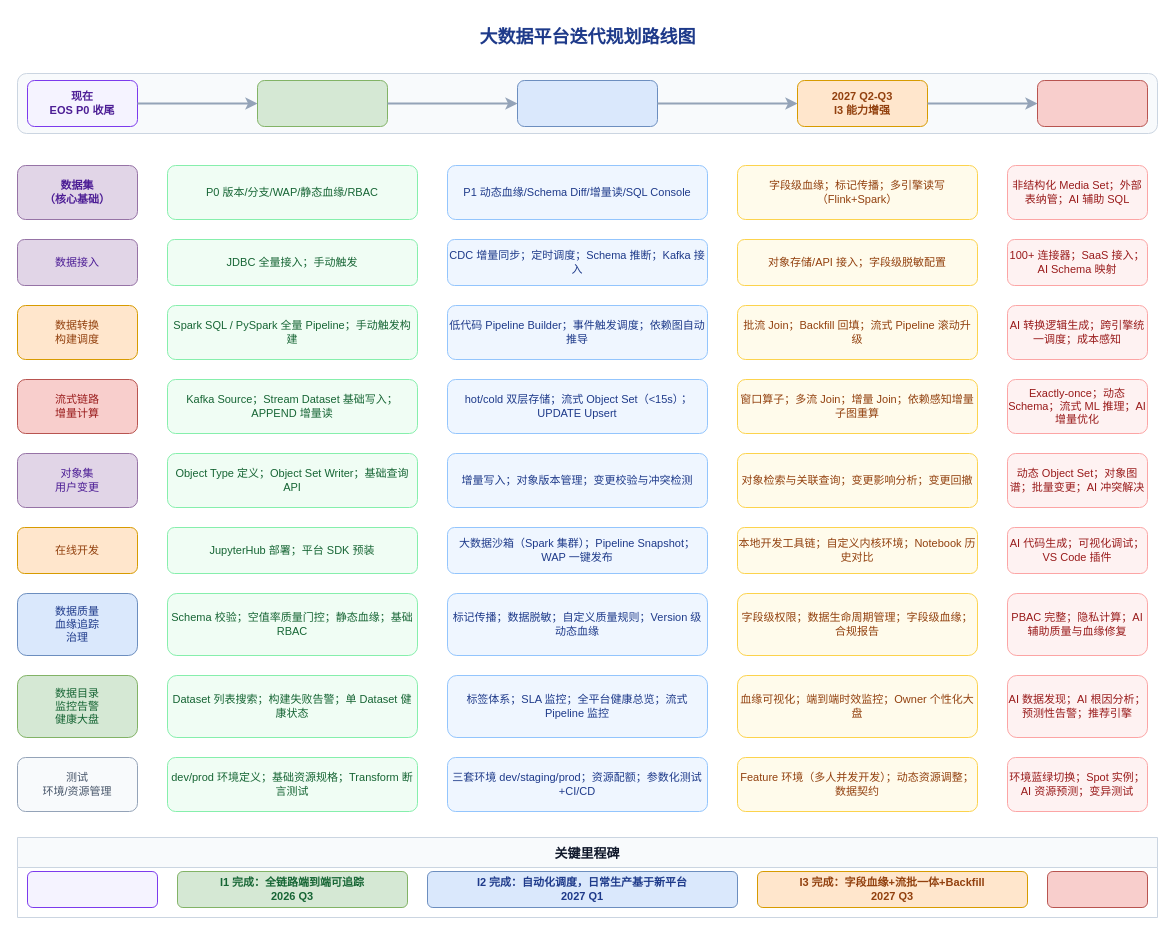
This 1175x935 diagram has some shape labels left out. The centre of each missing label's shape, as x and y in pixels:
"2026 Q2-Q3 I1 基础闭环" belongs at (322,103).
"2026 Q4-2027 Q1 I2 生产就绪" belongs at (587,103).
"2027 Q4+ I4 完整对标" belongs at (1092,103).
"EOS P0 上线 2026 Q2" belongs at (92,889).
"I4 完成：AI 全面接入 2028+" belongs at (1097,889).
